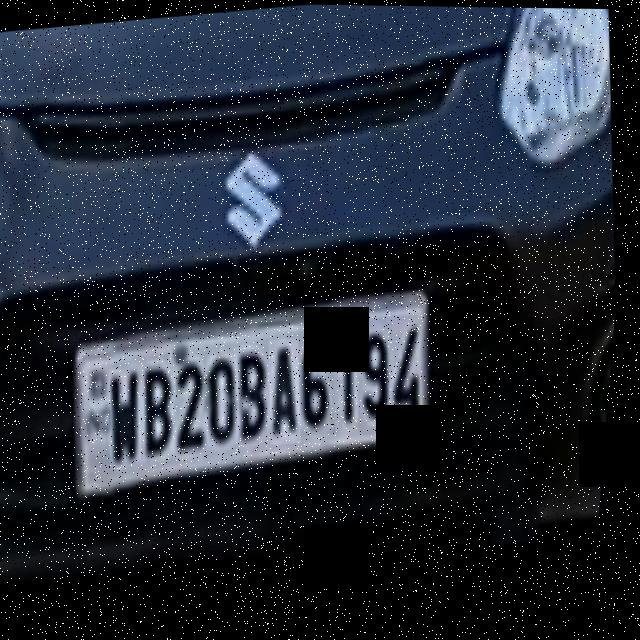0: (206, 351, 255, 446)
1: (332, 326, 372, 431)
4: (389, 310, 441, 429)
6: (295, 320, 349, 435)
9: (354, 314, 409, 434)
A: (267, 336, 315, 444)
B: (141, 357, 192, 460), (235, 343, 282, 448)
W: (109, 361, 159, 468)
